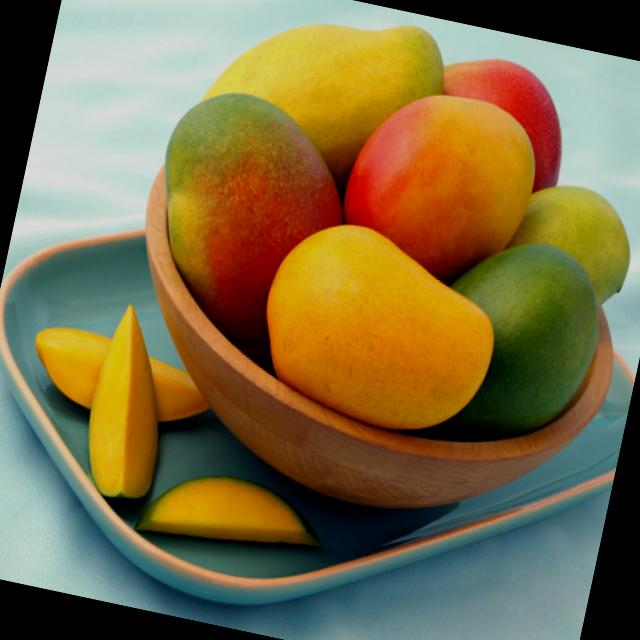mango: (248, 209, 512, 444), (122, 82, 356, 340), (188, 0, 450, 208), (330, 77, 546, 294)
